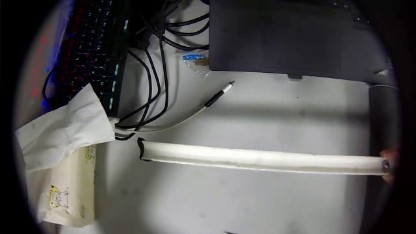gangzhu: (381, 159, 389, 171)
